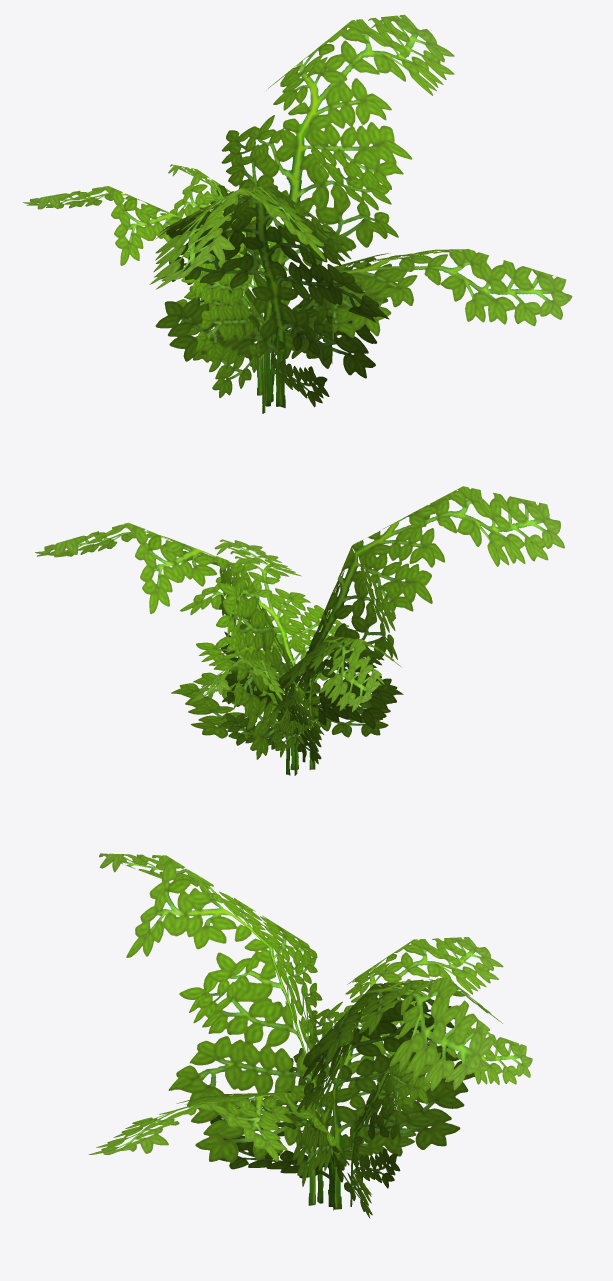
Rendered from Bush_Model.fbx.
3 renders of one model, top to bottom at view 1: azimuth 30°, elevation 25°; view 2: azimuth 150°, elevation 25°; view 3: azimuth 270°, elevation 25°, orthographic. The views are drawn at different scales.
Visible parts, largest first — view 1: Bush; view 2: Bush; view 3: Bush.
Part boxes in pixels (x1,y1,x2,y2): Bush: (23,14,572,413); Bush: (35,486,564,775); Bush: (88,853,532,1218).
Bounding box in the file's own units: 2.64 × 1.37 × 2.4.
